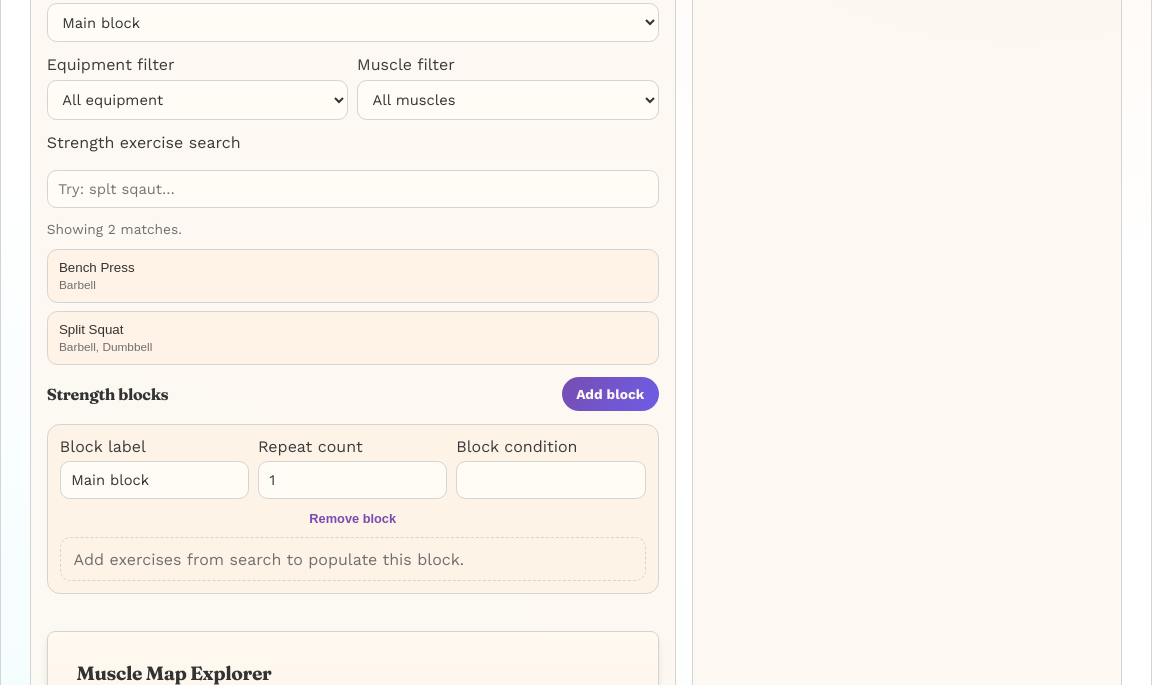
Test: RoutineCreationFlow › clears redo history after creating a new edit from an undone state
This screenshot has width=1152, height=685.
(page scrolled)
Expected: the text "Showing 2 matches." is shown, [47,221,182,237]
Click the button "Split Squat Barbell, Dumbbell" at [91, 329], box [47,311,659,364]
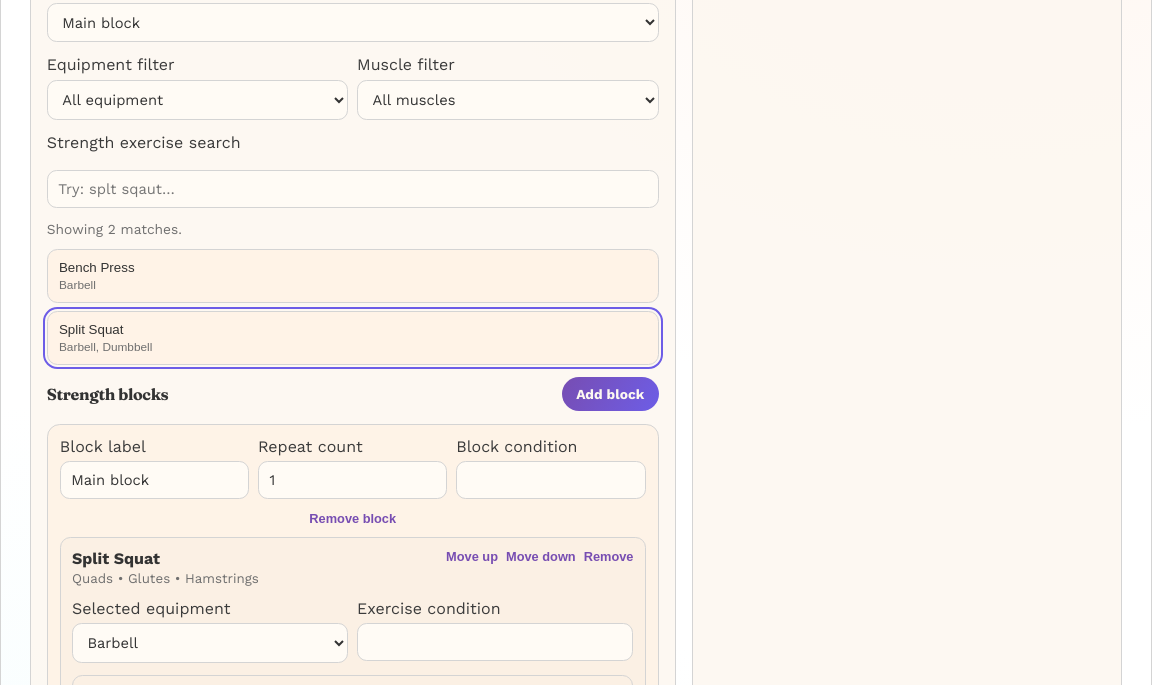
Click the button "Bench Press Barbell" at [97, 268], box [47,249,659,303]
(page scrolled)
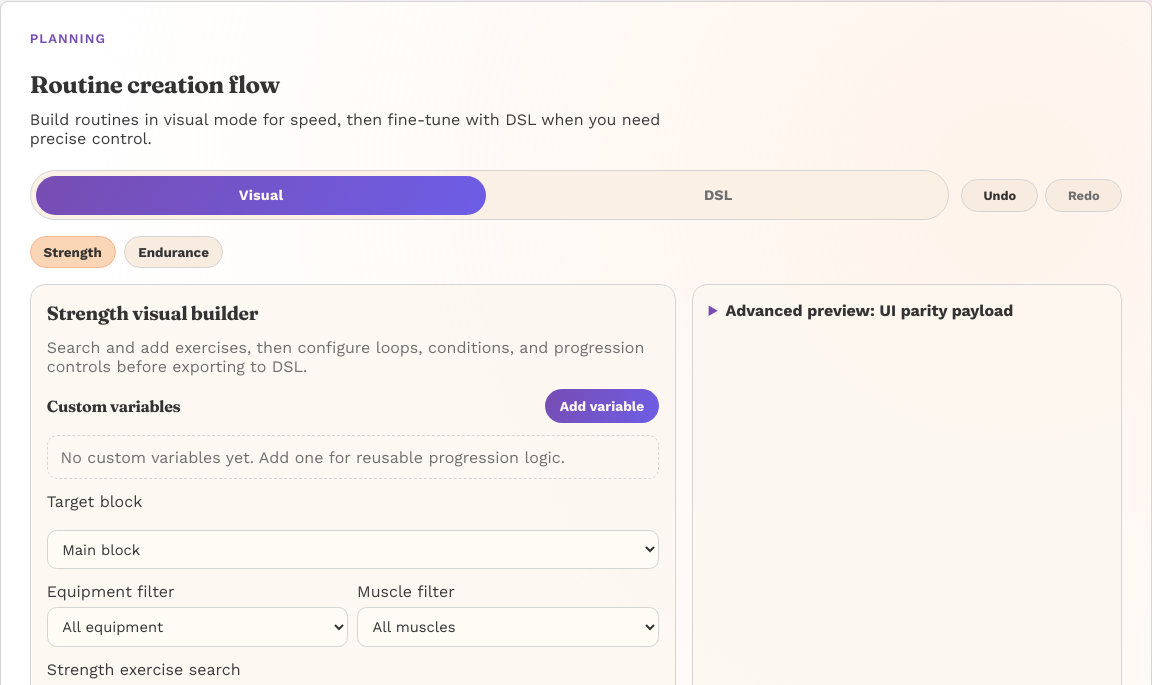
Click the button "Undo" at [1000, 195], box [961,178,1038,212]
(page scrolled)
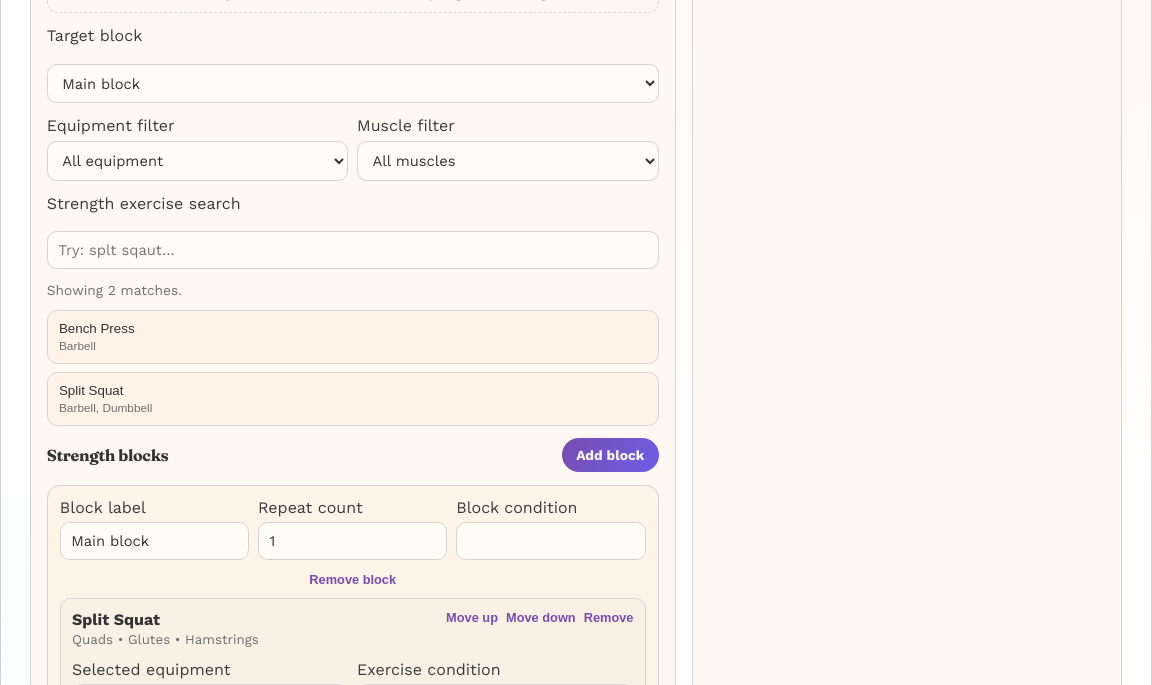
Click the button "Bench Press Barbell" at [97, 329], box [47,310,659,364]
(page scrolled)
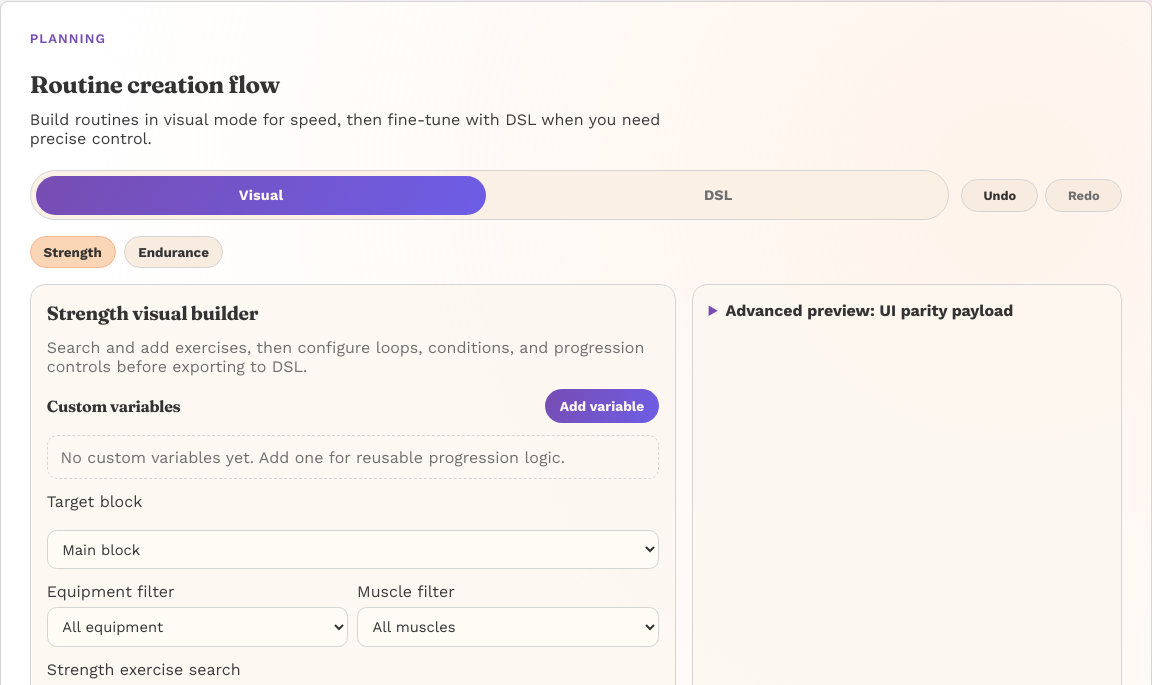
Expected: the button "Redo" is disabled, [1045,178,1122,212]
